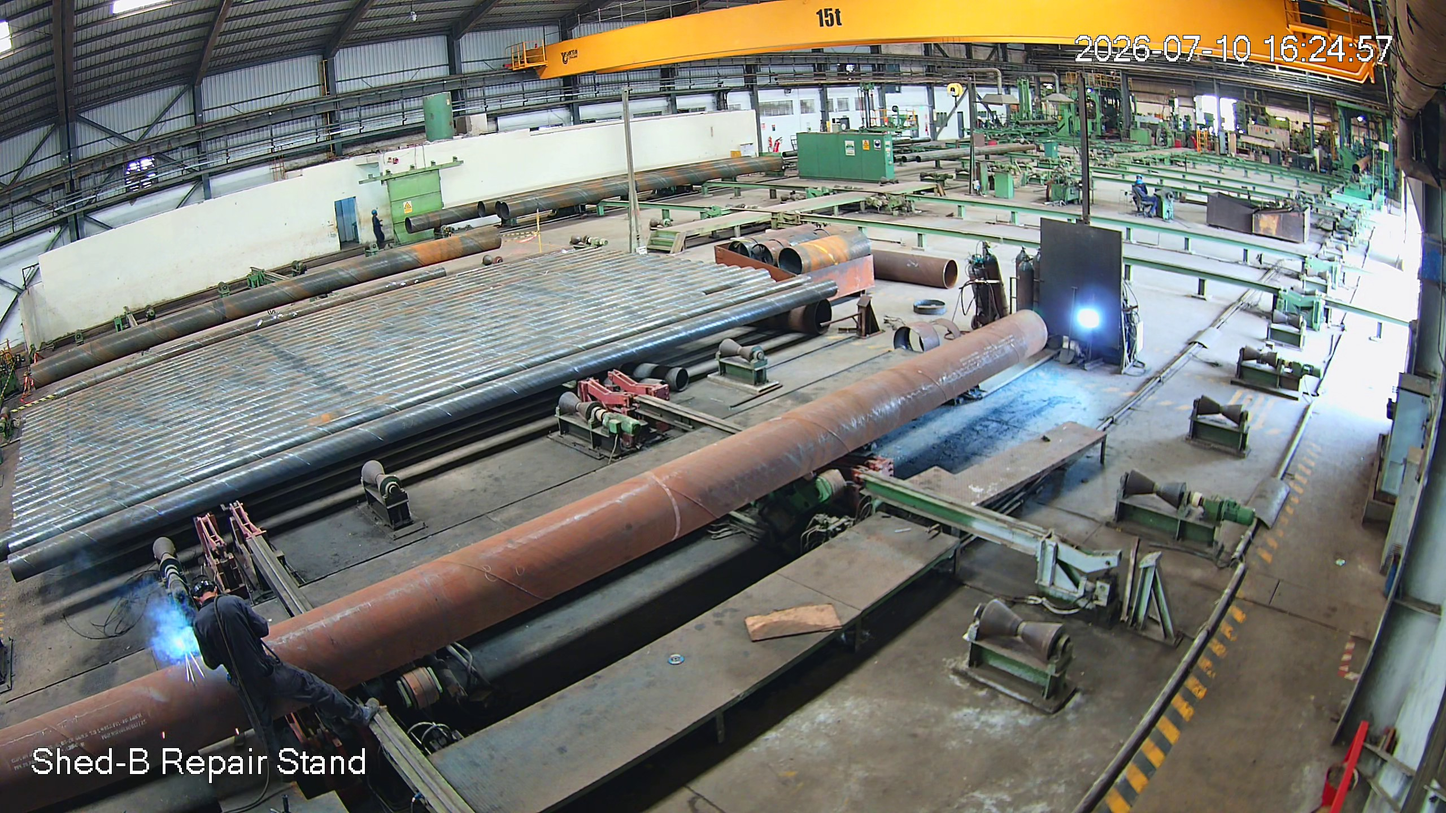Person: (189, 575, 366, 789)
